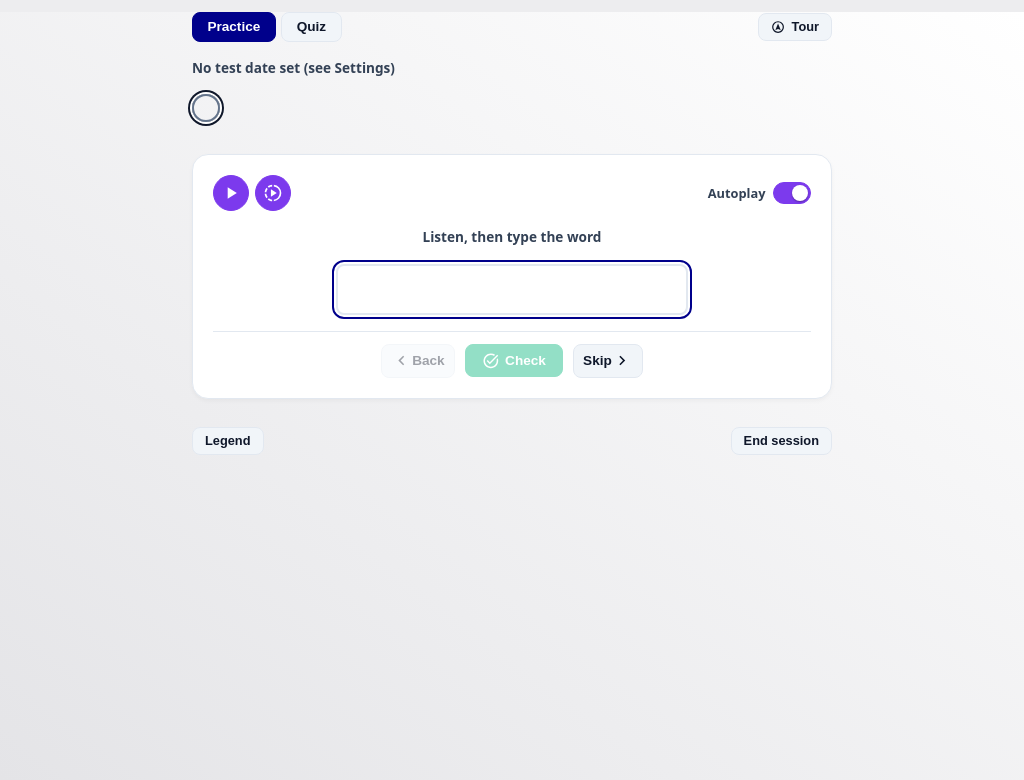
Test: Level 5: quiz from audio › a misspelling records the missed letters and does not pass the word
Type "kiten" into the field named "Type the word you heard" at (512, 289), box 336,264 -> 688,315
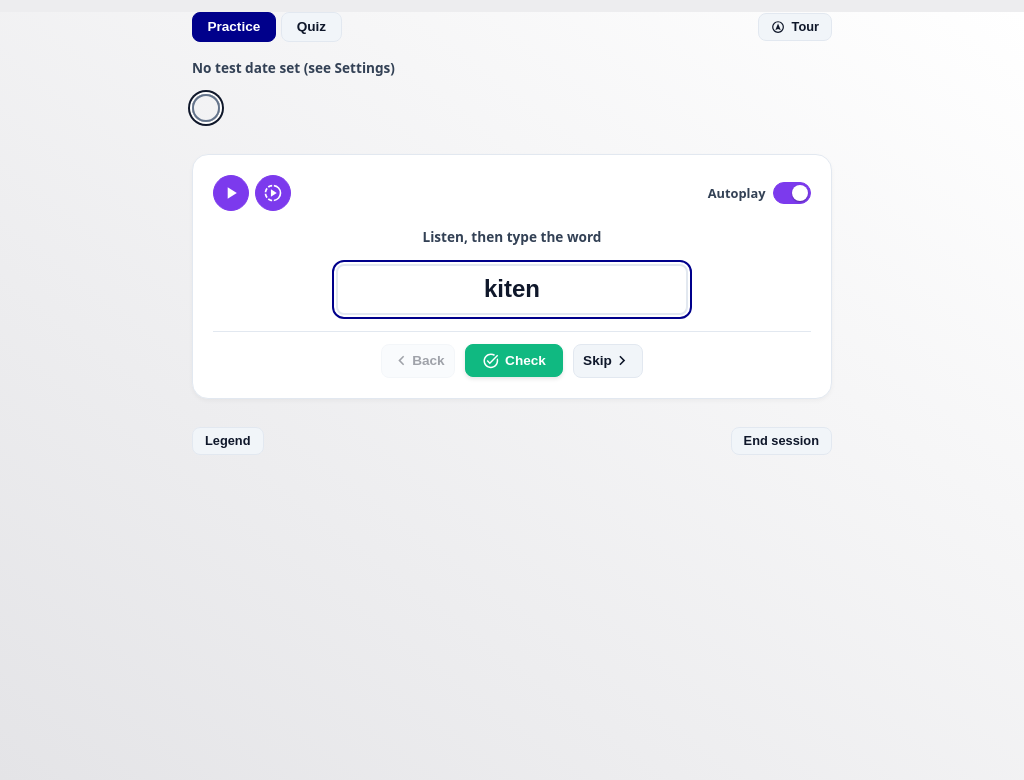
Click the button with aria-label "Check your spelling" at (514, 361), box 465,344 -> 563,377
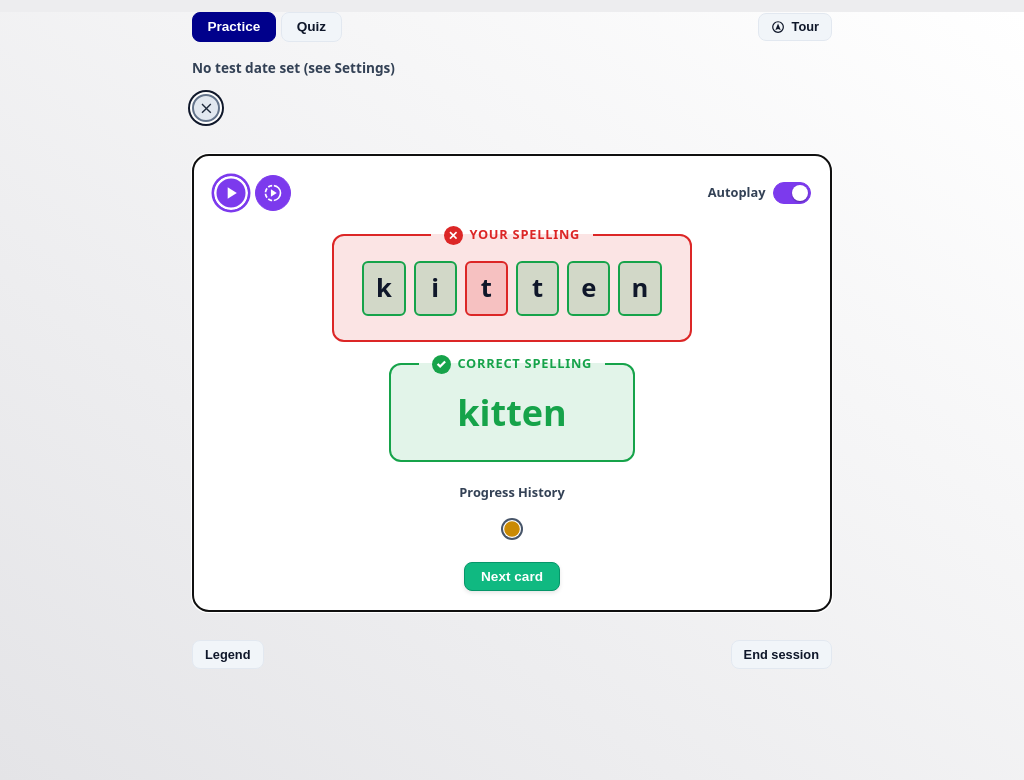
Now the text "Progress History" is shown, box 459,483 -> 565,502
Now the list item named "missed" is shown, box 192,94 -> 220,122
